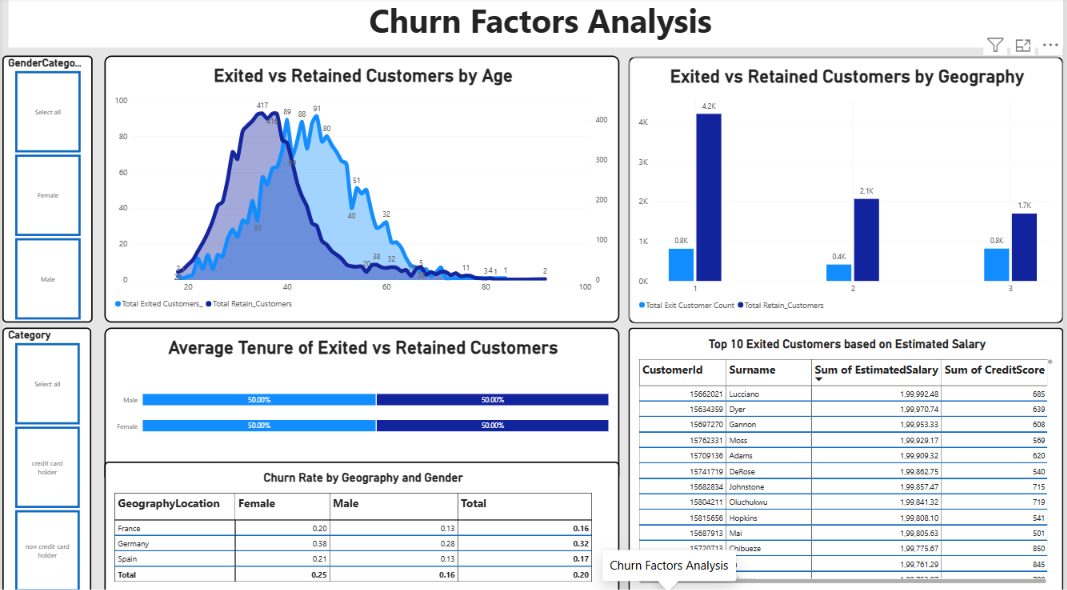

This screenshot's page, from the dashboard's own definition file:
{"tool":"powerbi","page":{"name":"Churn Factors Analysis","canvas":[1920,1080],"ordinal":3},"visuals":[{"type":"textbox","box":[10.9,0,1909.2,90.5],"z":0},{"type":"slicer","fields":{"Values":["Table1.GenderCategory"]},"box":[0,105,162.9,483.2],"z":1},{"type":"slicer","fields":{"Values":["Table1 (3).Category"]},"box":[0,597.2,161.1,483.2],"z":2},{"type":"tableEx","title":"Top 10 Exited Customers based on Estimated Salary","fields":{"Values":["Bank_Chduurn.CustomerId","CustomerInfo.Surname","Sum(Bank_Chduurn.EstimatedSalary)","Sum(Bank_Chduurn.CreditScore)"]},"box":[1132.8,597.2,787.2,483.2],"z":3},{"type":"lineChart","title":"Exited vs Retained Customers by Age","fields":{"Category":["Bank_Chduurn.Age"],"Y":["Bank_Chduurn.Total Exited Customers_"],"Y2":["Bank_Chduurn.Total Retain_Customers"]},"box":[184.6,105,932,483.2],"z":4},{"type":"hundredPercentStackedBarChart","title":"Average Tenure of Exited vs Retained Customers","fields":{"Category":["Table1.GenderCategory"],"Y":["Bank_Chduurn.Average_Month_Tenure Exited","Bank_Chduurn.Average_Month_Tenure_Exited"]},"box":[184.6,597.2,932,280.5],"z":7},{"type":"clusteredColumnChart","title":"\tExited vs Retained Customers by Geography","fields":{"Category":["Sheet1.GeographyID"],"Y":["Bank_Chduurn.Total Exit Customer Count","Bank_Chduurn.Total Retain_Customers"]},"box":[1132.8,106.8,787.2,483.2],"z":8},{"type":"pivotTable","title":"Churn Rate by Geography and Gender","fields":{"Columns":["Table1.GenderCategory"],"Rows":["Sheet1.GeographyLocation"],"Values":["Bank_Chduurn.Churn Percentage"]},"box":[184.6,839.7,932,240.7],"z":9}]}

Visuals, with their boxes on the page's 1920x1080 design canvas (x1, y1, x2, y2). These are canvas units, not pixel positions in the 1067x590 screenshot, which may show the page scaled, cropped or inside an application window:
textbox: [11, 0, 1920, 90]
slicer - Table1.GenderCategory: [0, 105, 163, 588]
slicer - Table1 (3).Category: [0, 597, 161, 1080]
"Top 10 Exited Customers based on Estimated Salary" tableEx: [1133, 597, 1920, 1080]
"Exited vs Retained Customers by Age" lineChart: [185, 105, 1117, 588]
"Average Tenure of Exited vs Retained Customers" hundredPercentStackedBarChart: [185, 597, 1117, 878]
"	Exited vs Retained Customers by Geography" clusteredColumnChart: [1133, 107, 1920, 590]
"Churn Rate by Geography and Gender" pivotTable: [185, 840, 1117, 1080]
